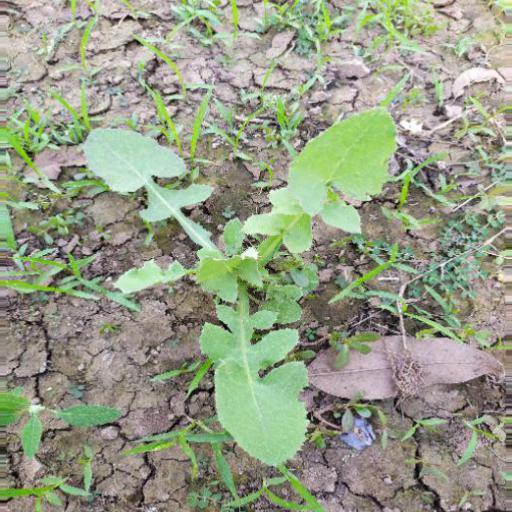weed: (76, 105, 397, 463)
